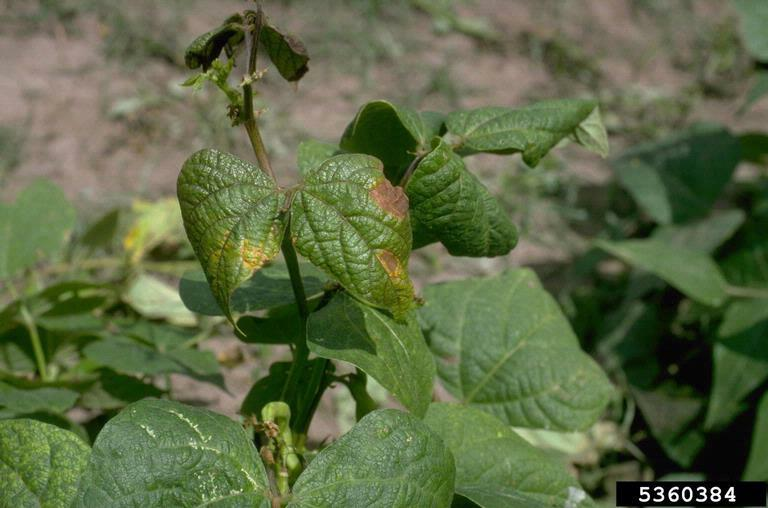StringBeans_Mosaic: (296, 169, 452, 314), (179, 153, 270, 333)
